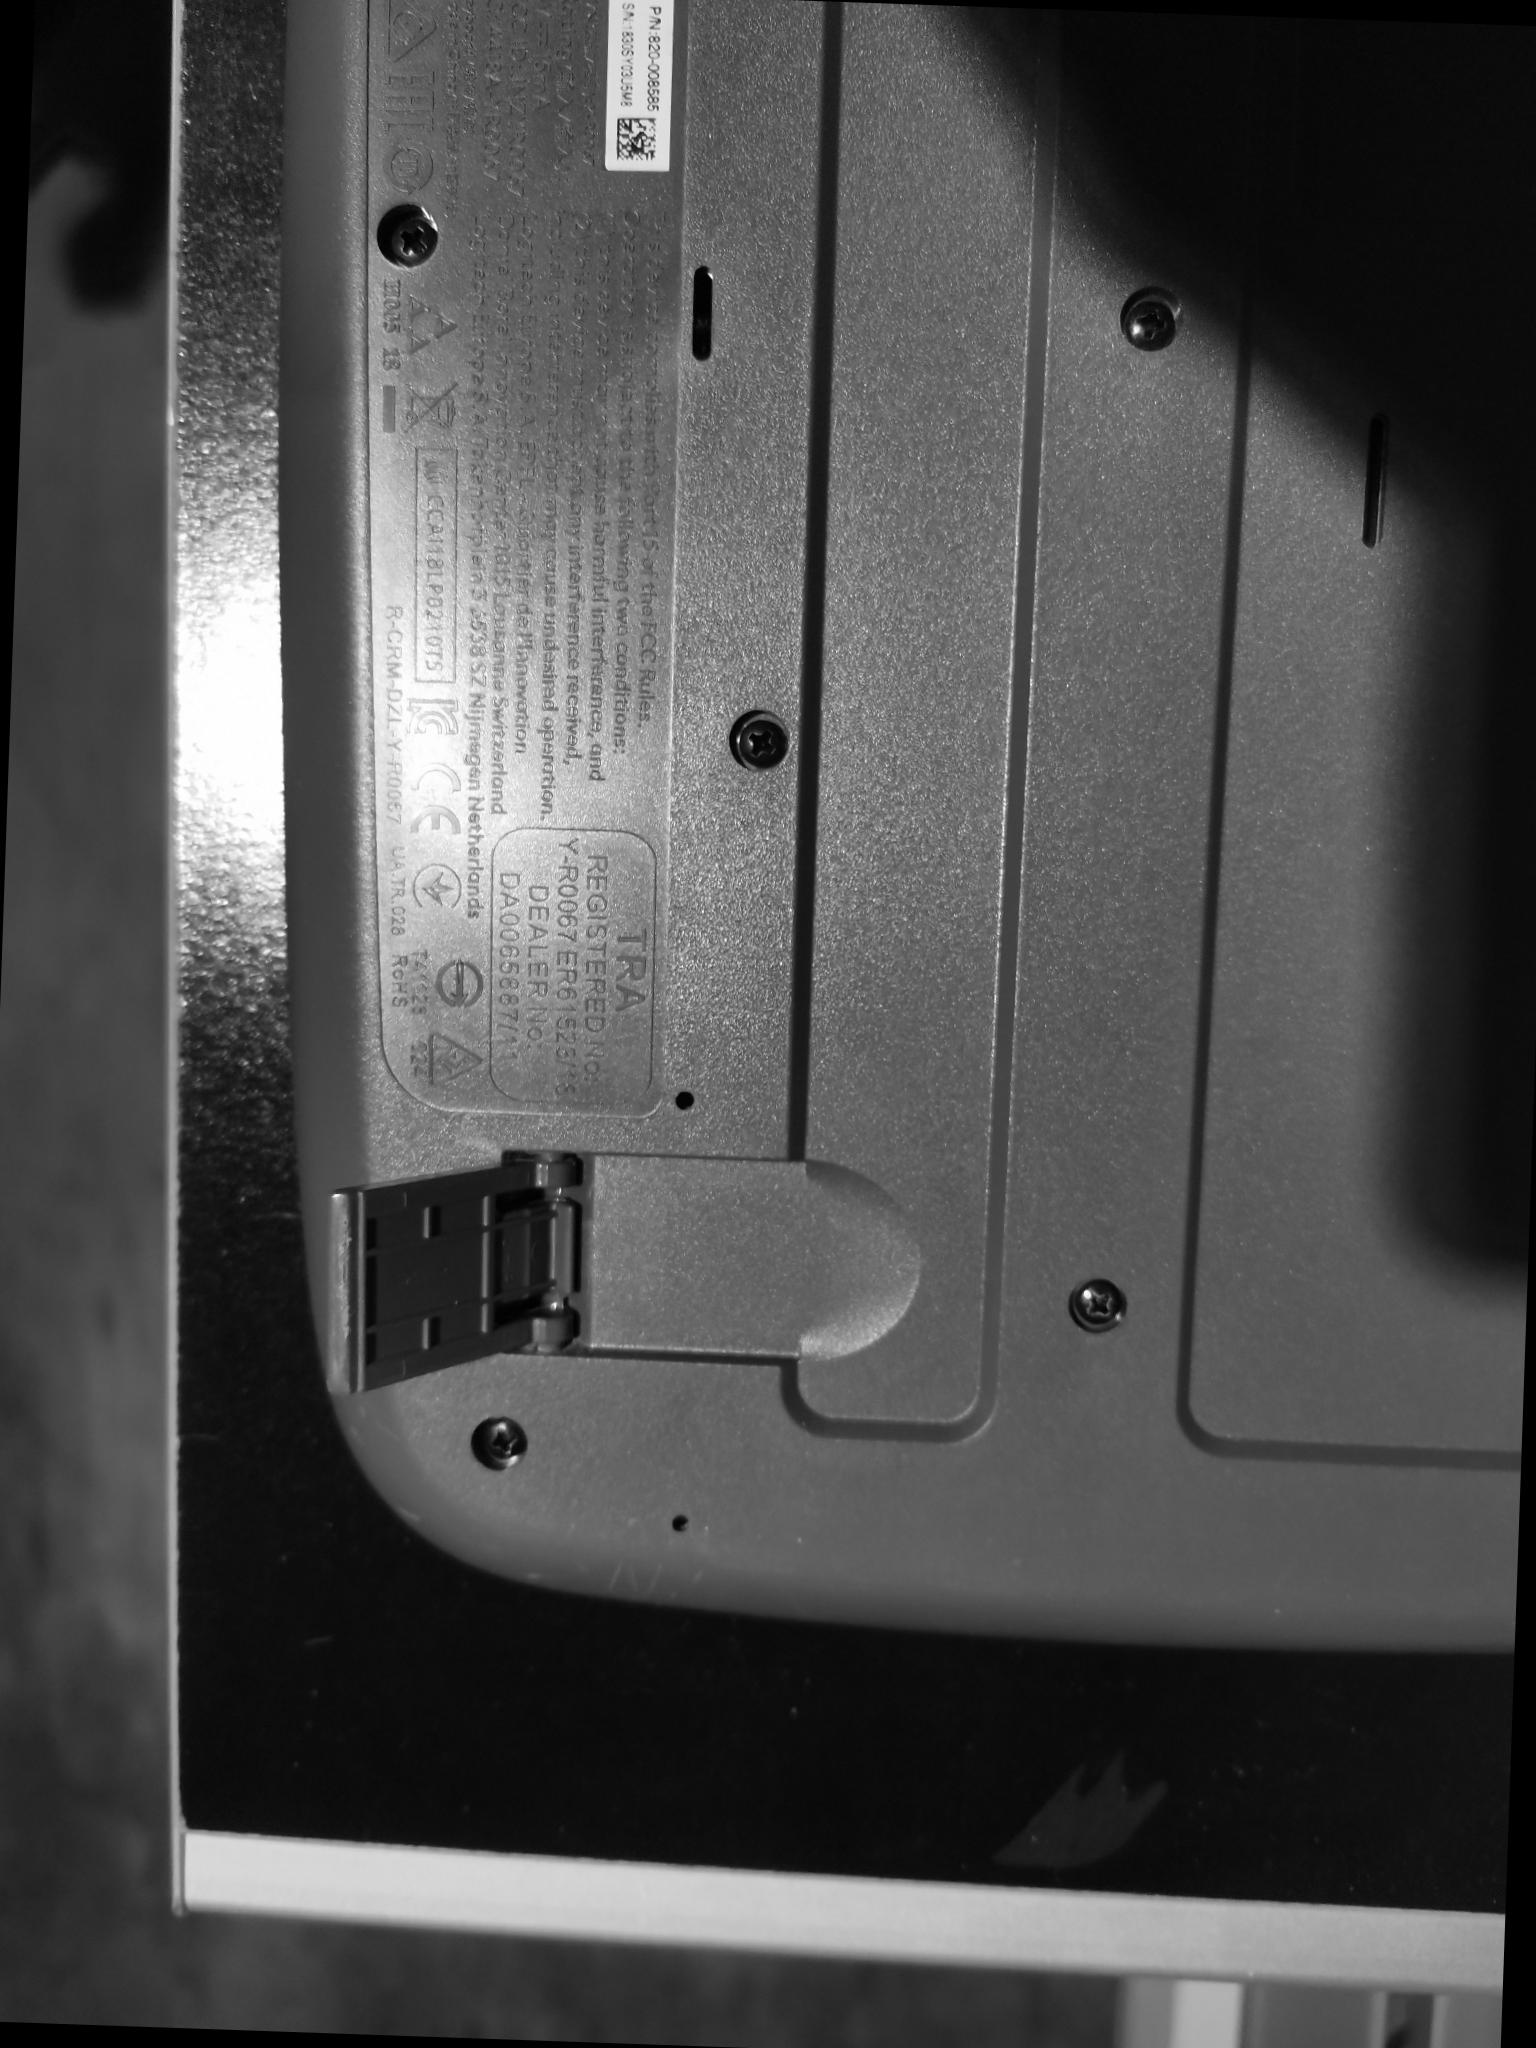philips-PZ: (381, 214, 444, 274), (470, 1414, 529, 1476), (1118, 297, 1181, 355), (736, 714, 794, 774), (1071, 1277, 1128, 1334)
